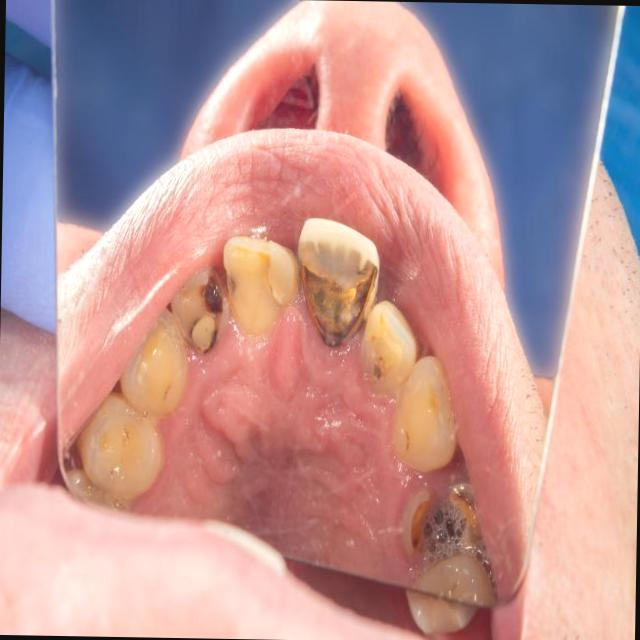caries: (294, 219, 376, 347), (392, 362, 462, 473), (220, 234, 294, 338), (80, 407, 160, 493), (402, 486, 488, 562), (123, 324, 184, 416), (356, 302, 418, 392), (163, 268, 223, 356)
